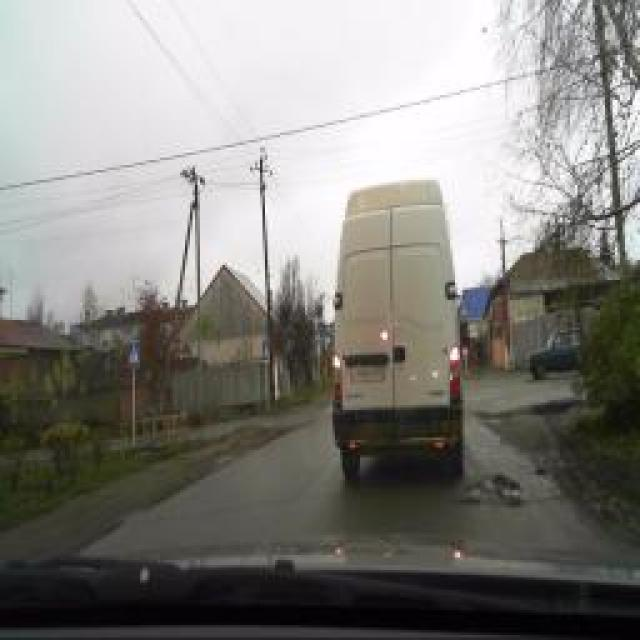sign: (128, 341, 140, 369), (311, 329, 324, 346), (458, 301, 468, 319), (262, 341, 270, 361)
